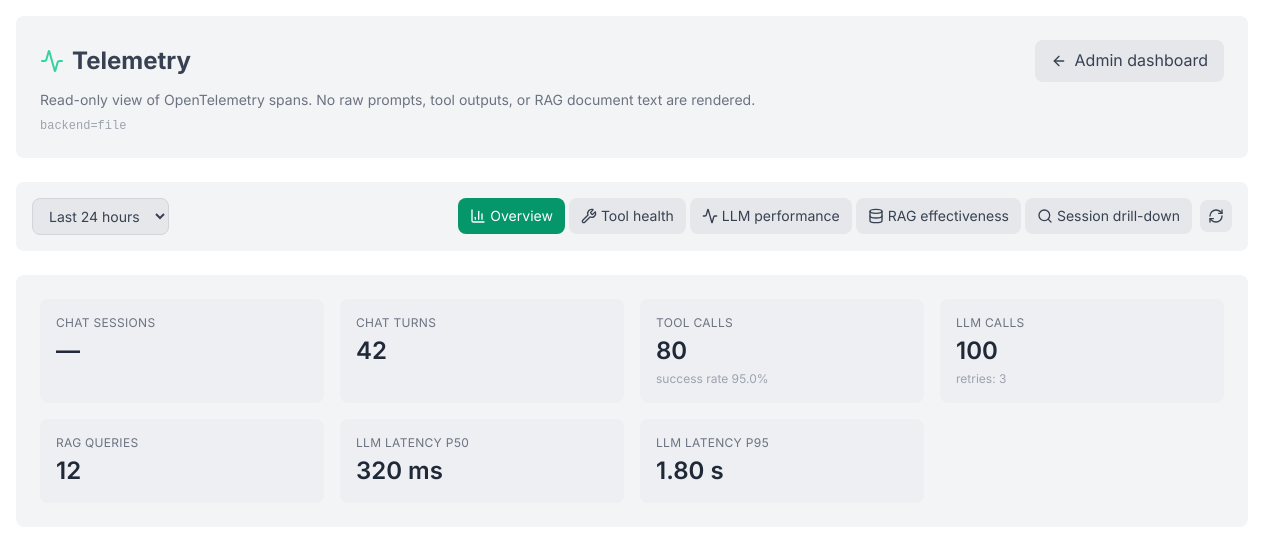
Test: TelemetryDashboard › LLM tab fetches /admin/telemetry/llm and renders model rollup
The image size is (1265, 544).
Expected: the text "Chat turns" is shown, 356,315 -> 436,330
Click the button "LLM performance".
click(771, 216)  # box 690,198 -> 852,234
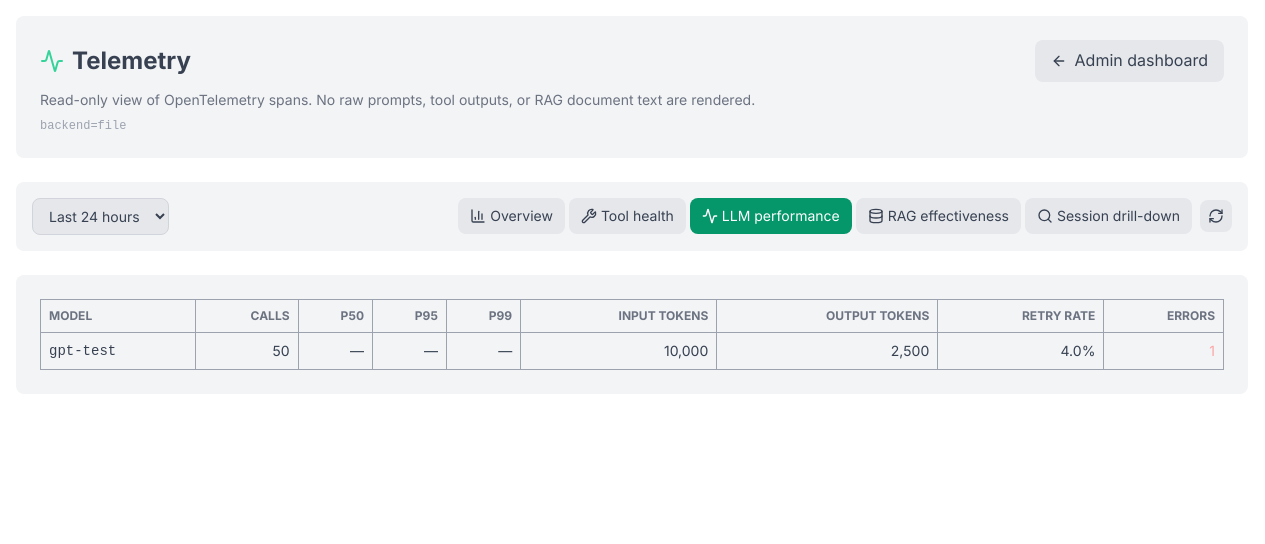
Now the text "gpt-test" is shown, box 40,332 -> 195,369
